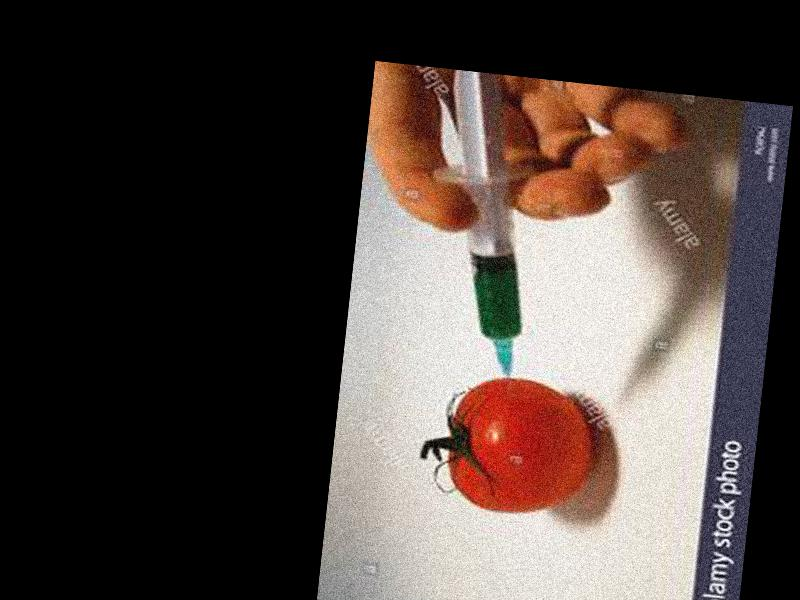Tomato: (443, 372, 599, 519)
